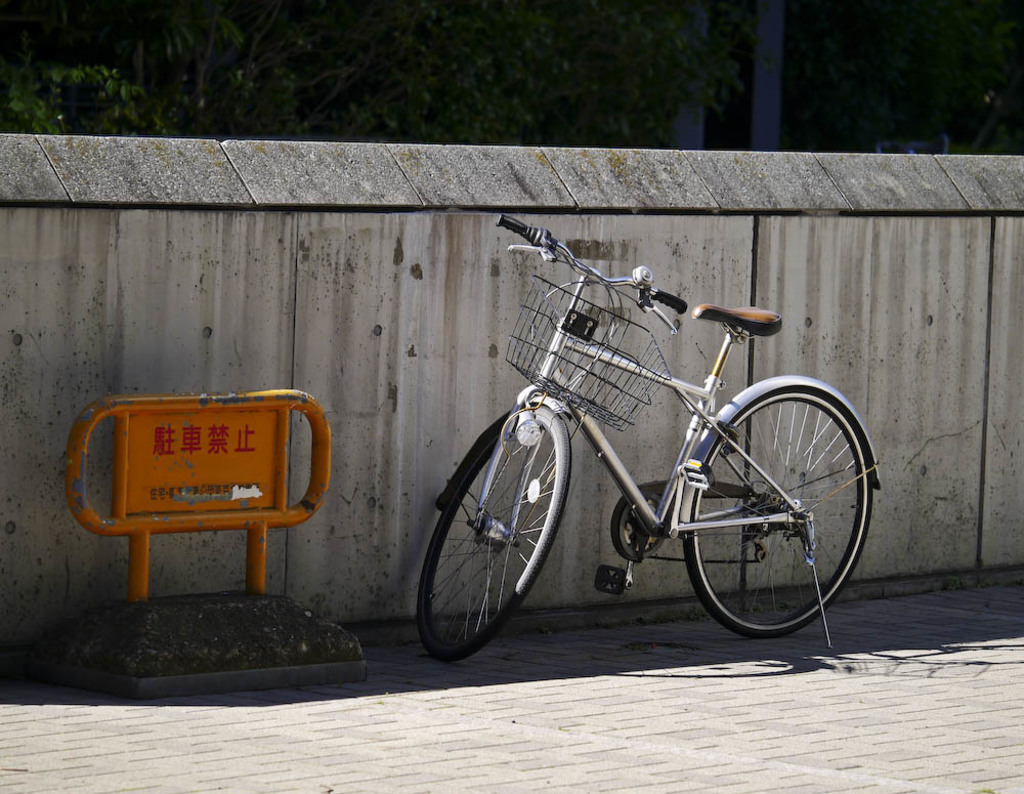Bicycle: (401, 210, 894, 681)
